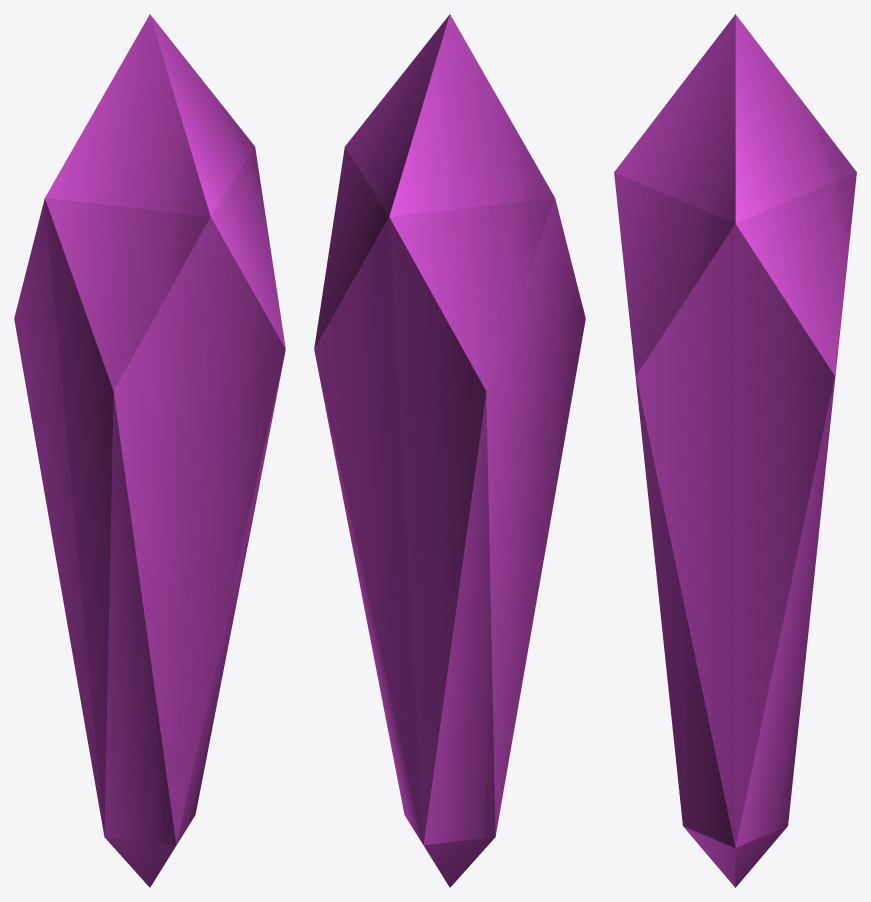
The model's file is crystal.dae.
3 views of the same model, side by side, from view 1: azimuth 30°, elevation 25°; view 2: azimuth 150°, elevation 25°; view 3: azimuth 270°, elevation 25° (orthographic).
Visible parts, largest first — view 1: Power Crystal; view 2: Power Crystal; view 3: Power Crystal.
Part boxes in pixels (box(x1,y1,x2,y2)): Power Crystal: box(14, 14, 285, 887); Power Crystal: box(314, 14, 585, 887); Power Crystal: box(614, 14, 856, 887).
Bounding box in the file's own units: 26.16 × 26.16 × 104.
1 material, 1 textured.
